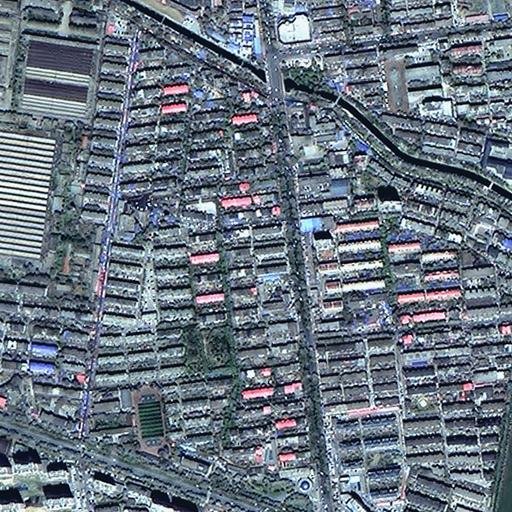school: (86, 380, 171, 457)
